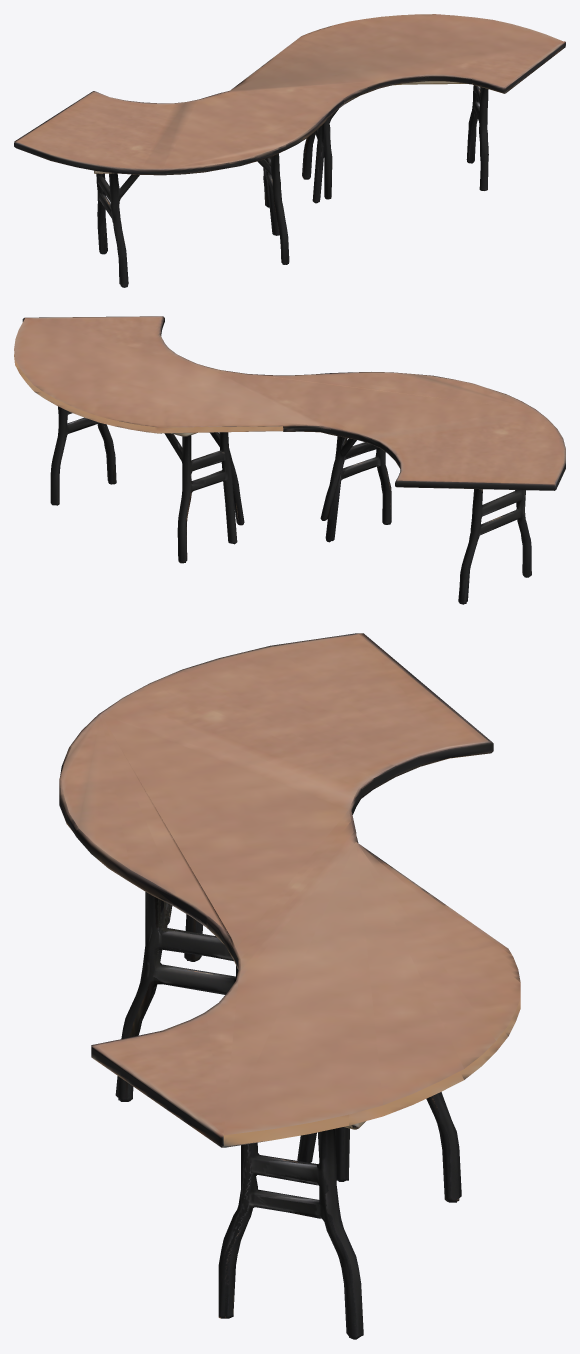
Rendered from curved_folding_tables_0125194005_texture.glb.
3 renders of one model, top to bottom at view 1: azimuth 30°, elevation 25°; view 2: azimuth 150°, elevation 25°; view 3: azimuth 270°, elevation 25°, orthographic. The views are drawn at different scales.
Parts seen in each view (by area): view 1: Mesh_0; view 2: Mesh_0; view 3: Mesh_0.
Boxes of the visible parts, x1=… form: Mesh_0: x1=14, y1=14, x2=565, y2=287; Mesh_0: x1=14, y1=316, x2=565, y2=604; Mesh_0: x1=59, y1=633, x2=520, y2=1339.
Size of the model in its own units: 125 by 30 by 48.21.
Materials: 1 (1 with a texture image).
